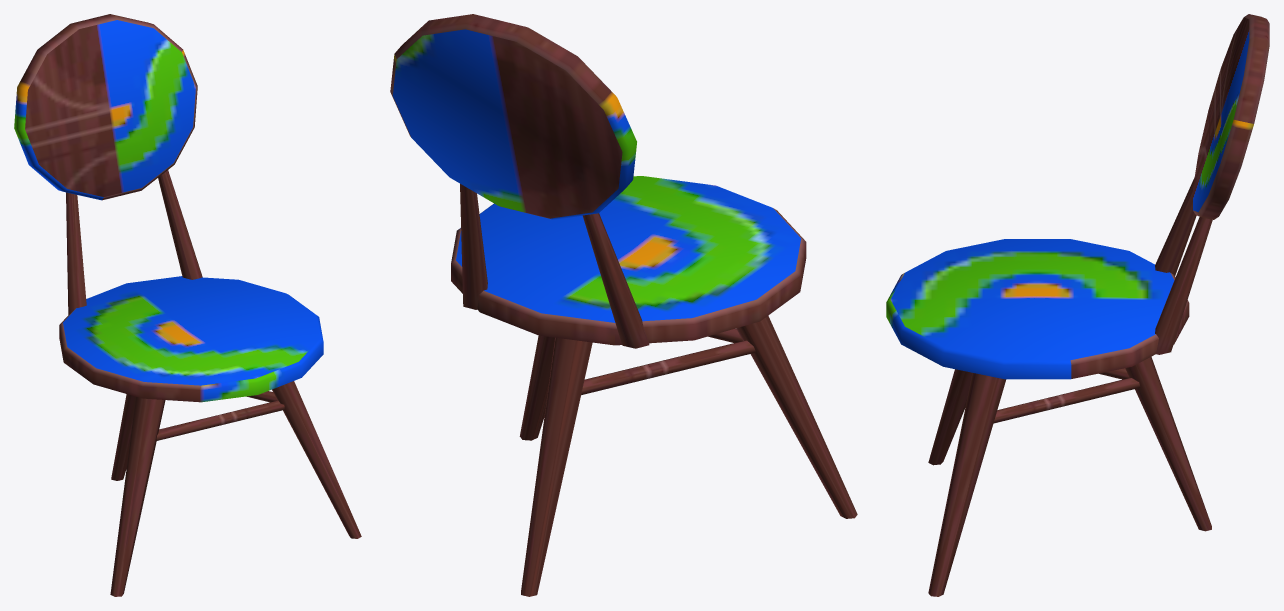
The model's file is int_grf_chairS.dae.
3 renders of one model, left to right at view 1: azimuth 30°, elevation 25°; view 2: azimuth 150°, elevation 25°; view 3: azimuth 270°, elevation 25°, orthographic. The views are drawn at different scales.
Visible parts, largest first — view 1: int_grf_chairS; view 2: int_grf_chairS; view 3: int_grf_chairS.
Part boxes in pixels (left/top/right/bottom): int_grf_chairS: left=14, top=14, right=361, bottom=596; int_grf_chairS: left=390, top=14, right=857, bottom=596; int_grf_chairS: left=886, top=14, right=1269, bottom=596.
Size of the model in its own units: 20.71 by 35.08 by 24.35.
1 material, 1 textured.
